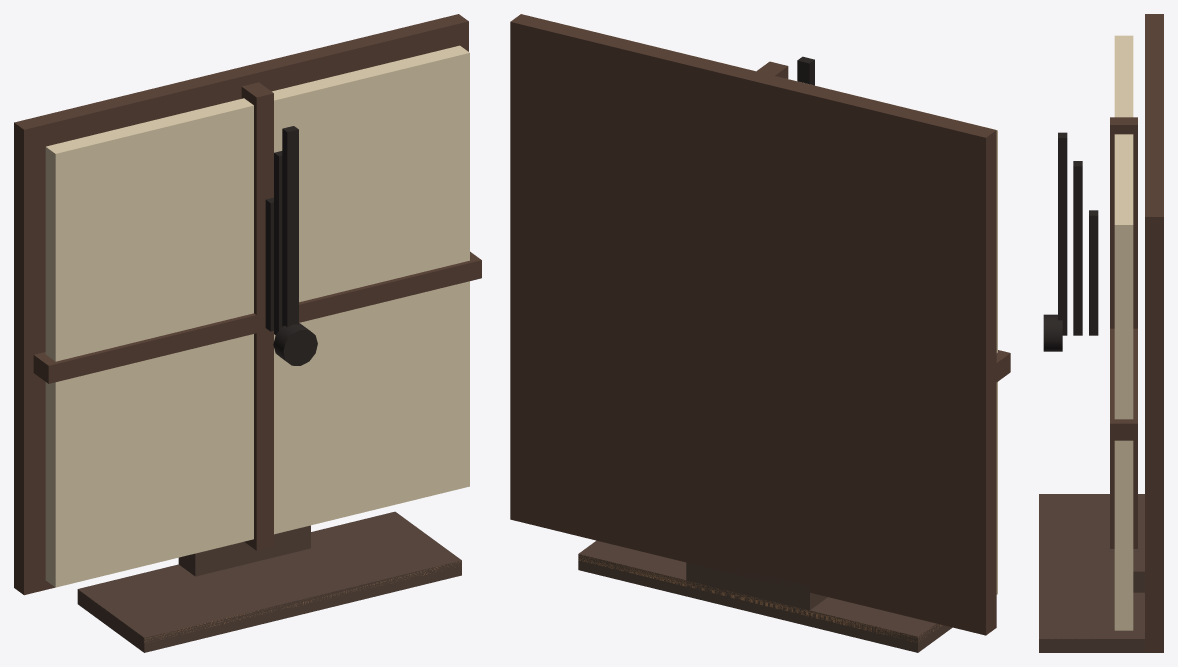
3 renders of one model, left to right at view 1: azimuth 30°, elevation 25°; view 2: azimuth 150°, elevation 25°; view 3: azimuth 270°, elevation 25°, orthographic. The views are drawn at different scales.
Visible parts, largest first — view 1: clock-face, clock-back, clock-base, clock-spoke-4, clock-spoke-3, clock-spoke-2, clock-spoke-1, clock-second-hand, clock-display-support, clock-minute-hand, clock-center-cap, clock-hour-hand; view 2: clock-back, clock-base, clock-display-support, clock-base-trim, clock-face; view 3: clock-base, clock-back, clock-face, clock-spoke-1, clock-second-hand, clock-minute-hand, clock-spoke-2, clock-hour-hand, clock-spoke-3, clock-display-support, clock-center-cap.
Boxes of the visible parts, <box> form: clock-face: <box>45,45,469,587</box>; clock-back: <box>14,14,468,595</box>; clock-base: <box>77,511,461,652</box>; clock-spoke-4: <box>33,313,256,383</box>; clock-spoke-3: <box>244,322,273,550</box>; clock-spoke-2: <box>265,251,481,330</box>; clock-spoke-1: <box>241,82,273,323</box>; clock-second-hand: <box>282,126,298,327</box>; clock-display-support: <box>178,525,310,576</box>; clock-minute-hand: <box>274,151,282,334</box>; clock-center-cap: <box>273,323,317,365</box>; clock-hour-hand: <box>265,197,273,331</box>; clock-back: <box>510,14,996,635</box>; clock-base: <box>578,540,952,652</box>; clock-display-support: <box>686,562,827,610</box>; clock-base-trim: <box>578,554,941,642</box>; clock-face: <box>609,35,997,594</box>; clock-base: <box>1039,494,1163,652</box>; clock-back: <box>1145,14,1163,652</box>; clock-face: <box>1114,35,1133,630</box>; clock-spoke-1: <box>1110,117,1137,328</box>; clock-second-hand: <box>1058,132,1067,335</box>; clock-minute-hand: <box>1073,161,1082,335</box>; clock-spoke-2: <box>1110,328,1137,440</box>; clock-hour-hand: <box>1089,210,1098,335</box>; clock-spoke-3: <box>1110,440,1137,548</box>; clock-display-support: <box>1133,518,1144,592</box>; clock-center-cap: <box>1043,314,1062,351</box>.
Bounding box in the file's own units: 0.308 × 0.329 × 0.08.
